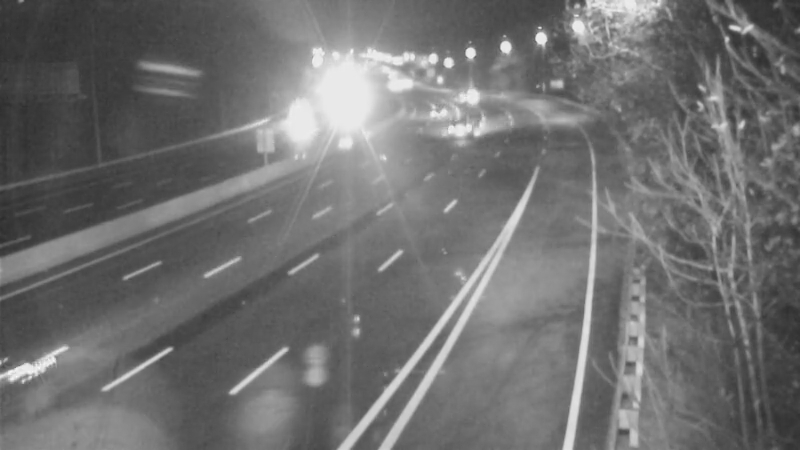vehicle: (369, 62, 419, 112), (438, 69, 488, 119), (408, 90, 458, 140), (433, 103, 483, 153), (277, 100, 327, 150)
